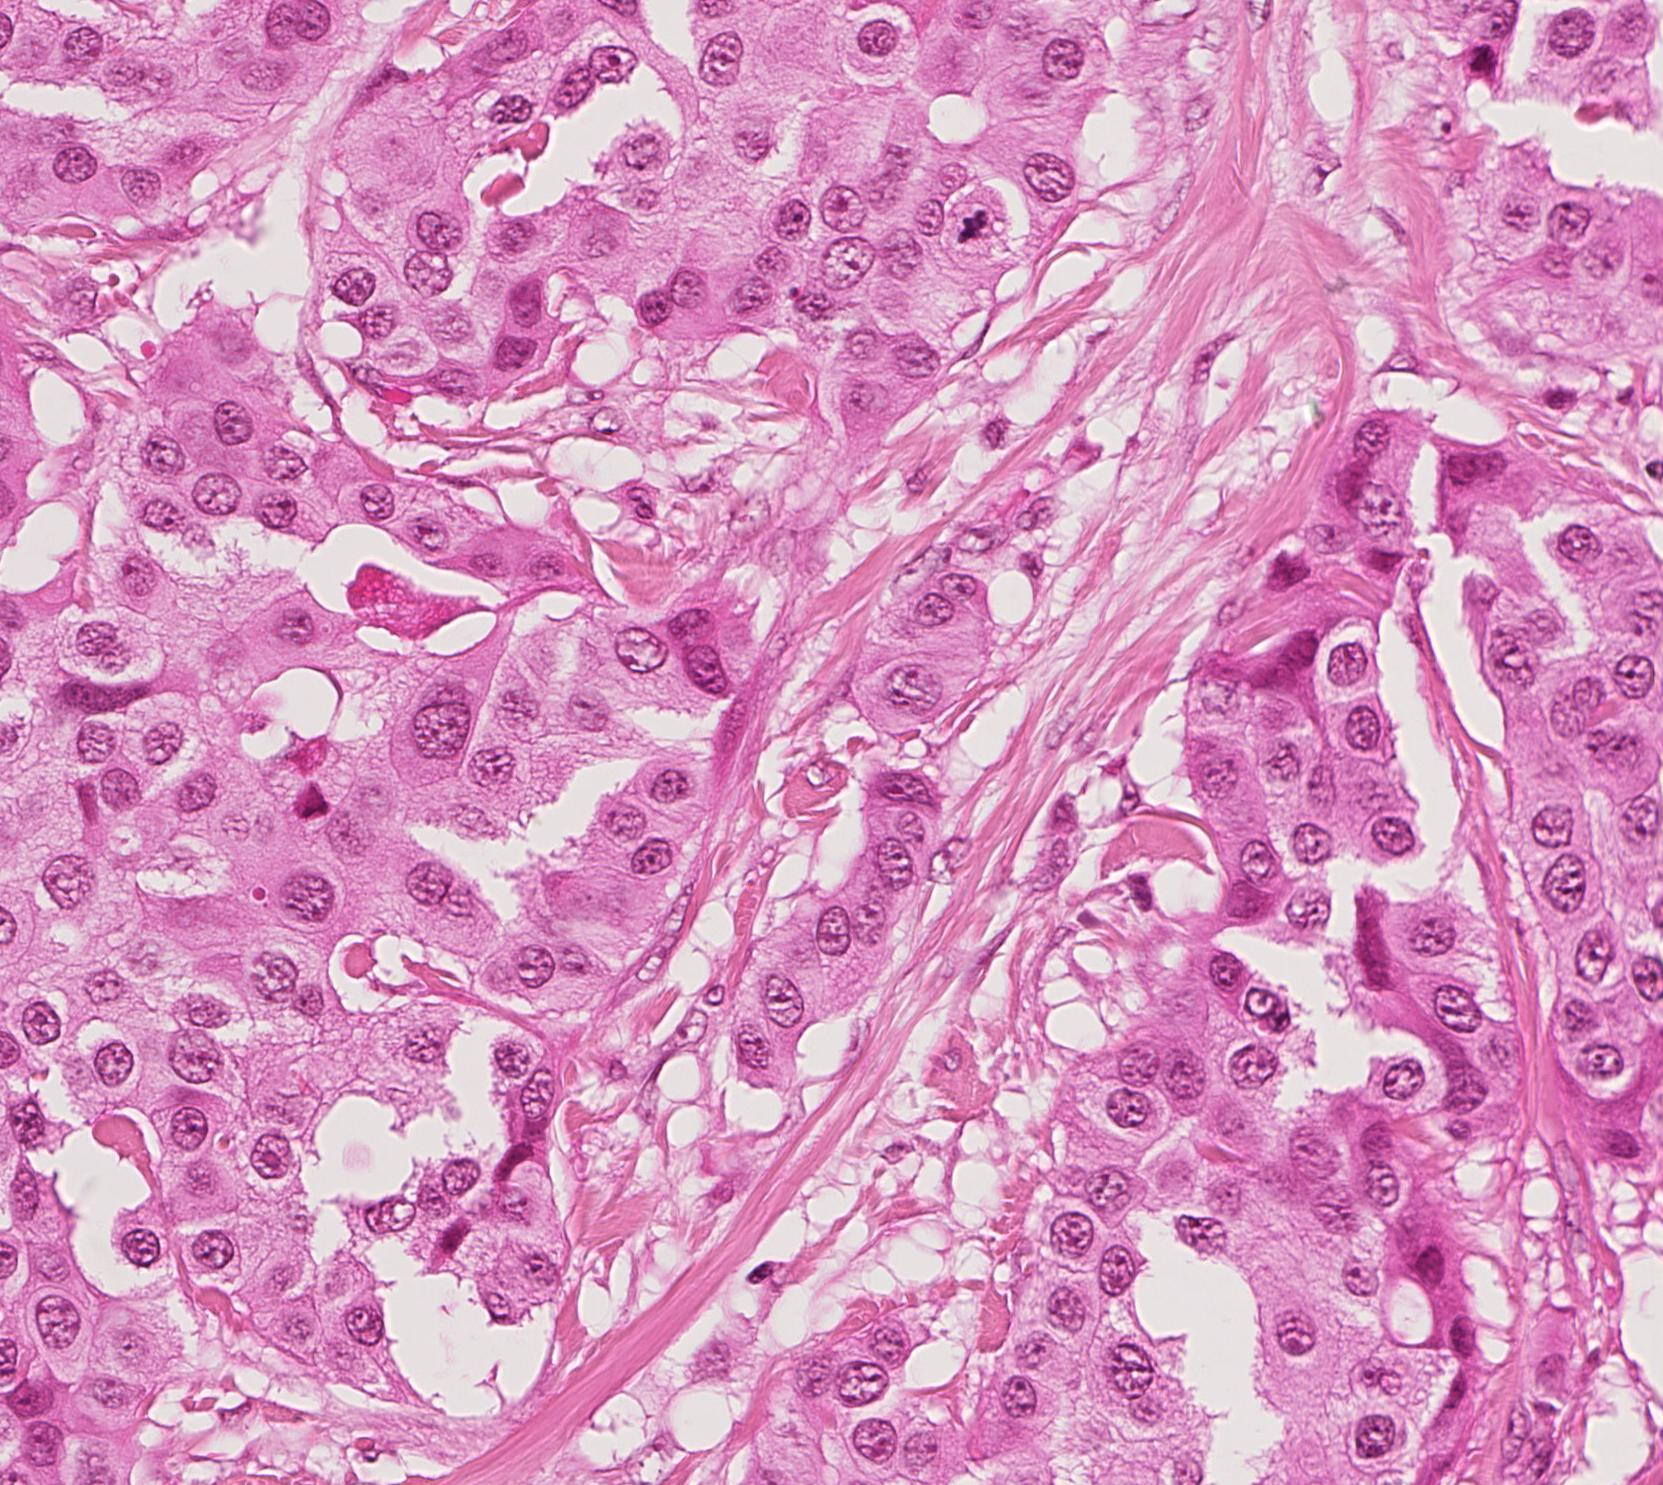mitosis: (938, 191, 996, 251)
